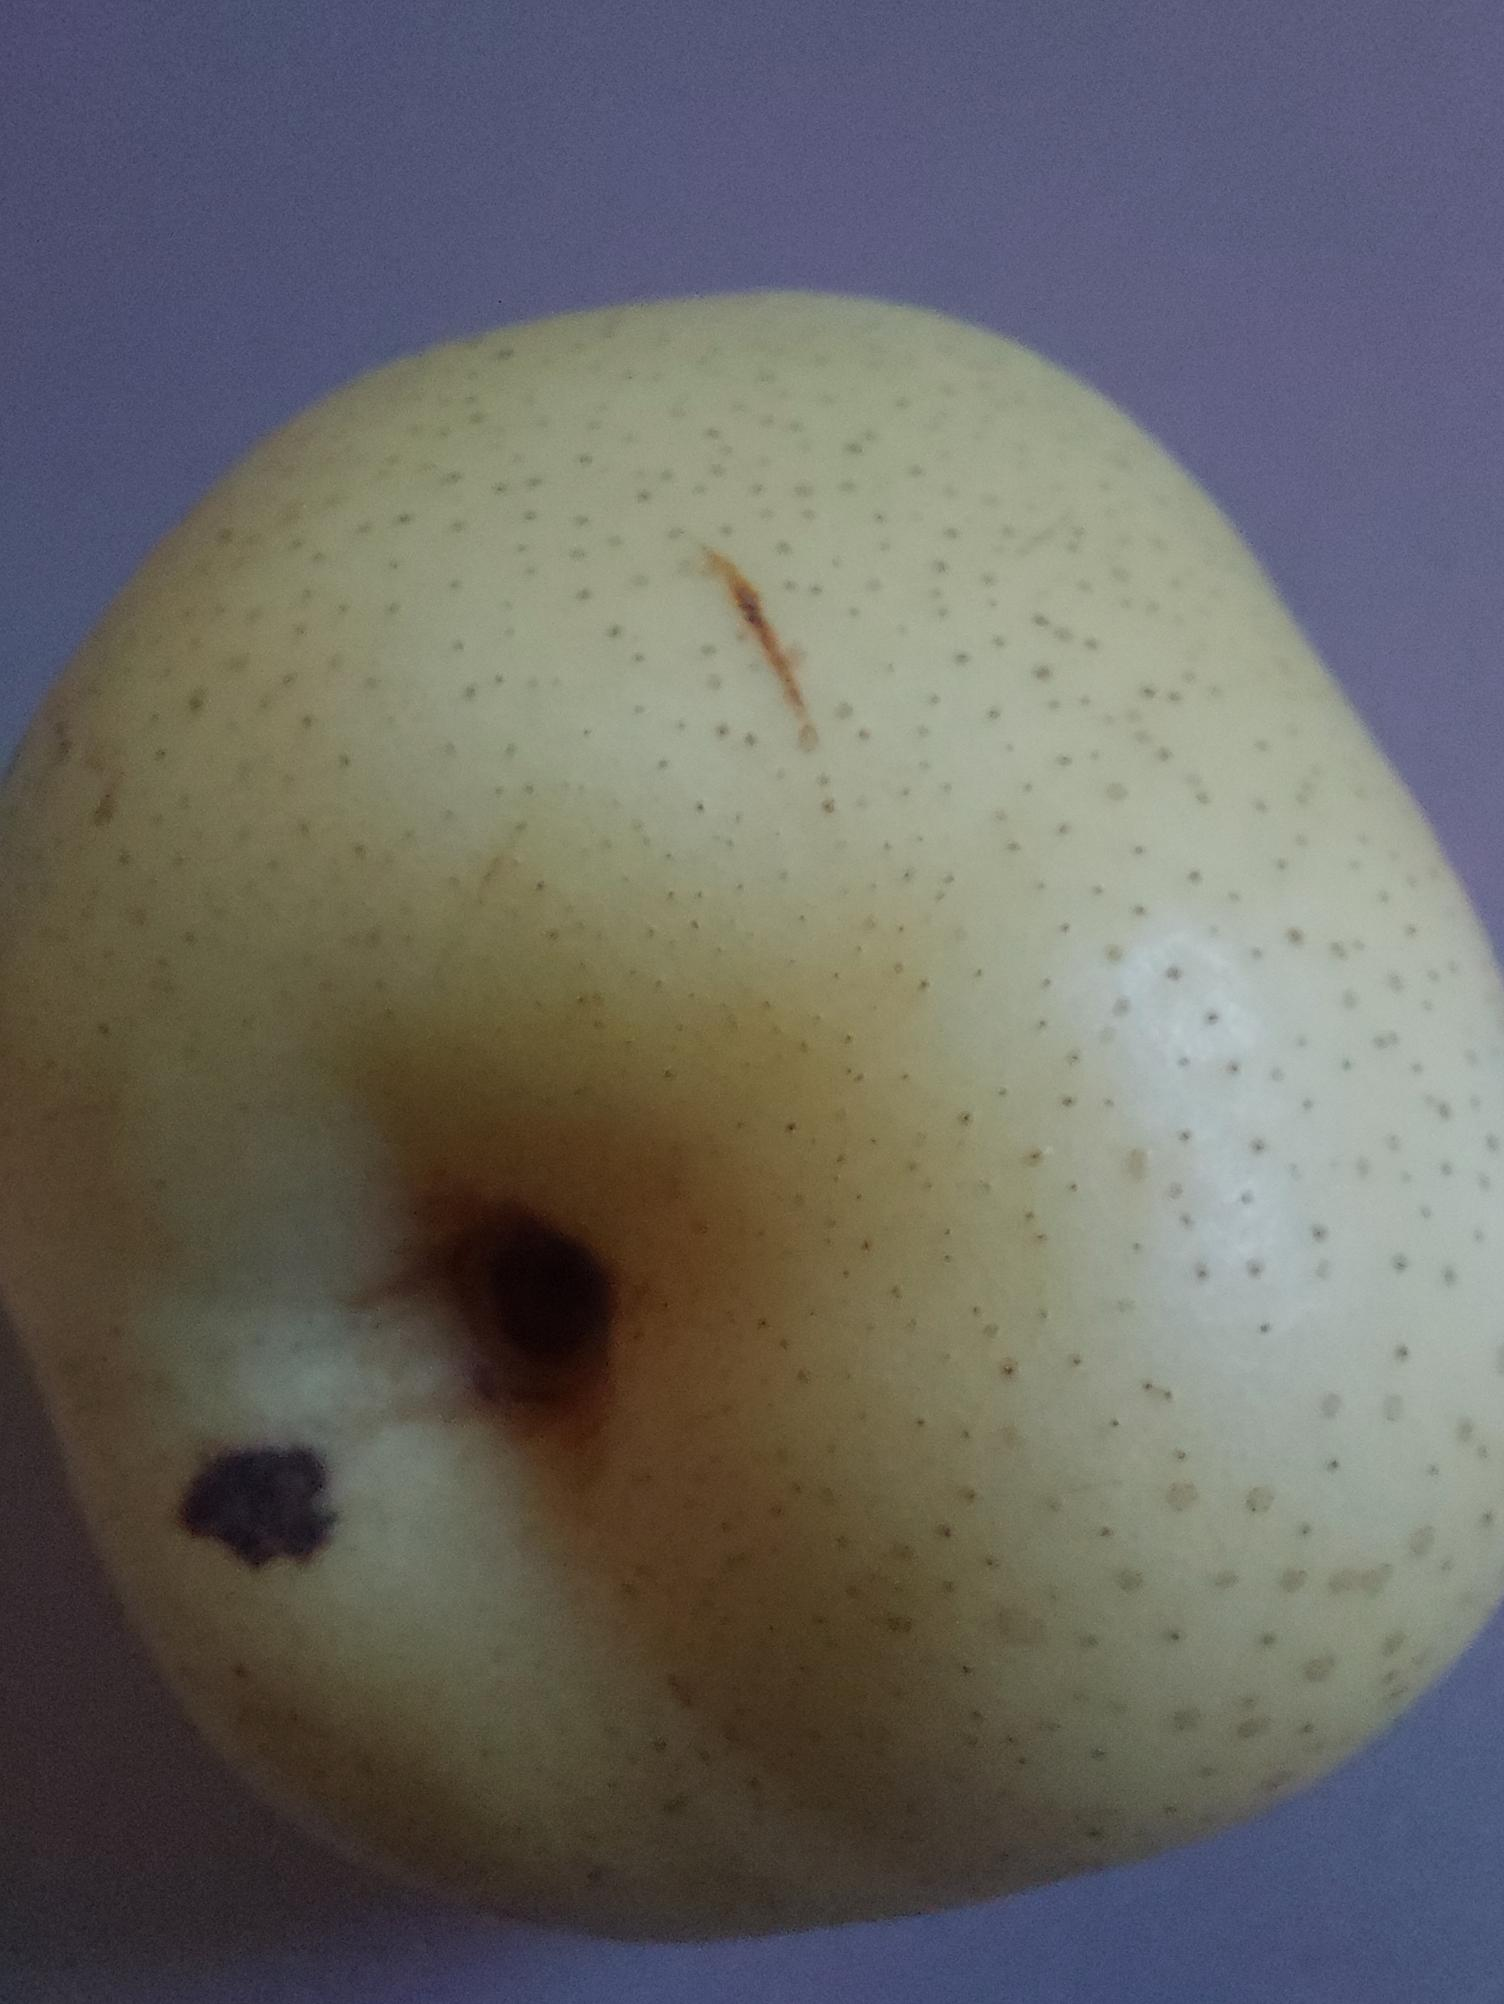Good Pear: (0, 202, 1504, 1990)
